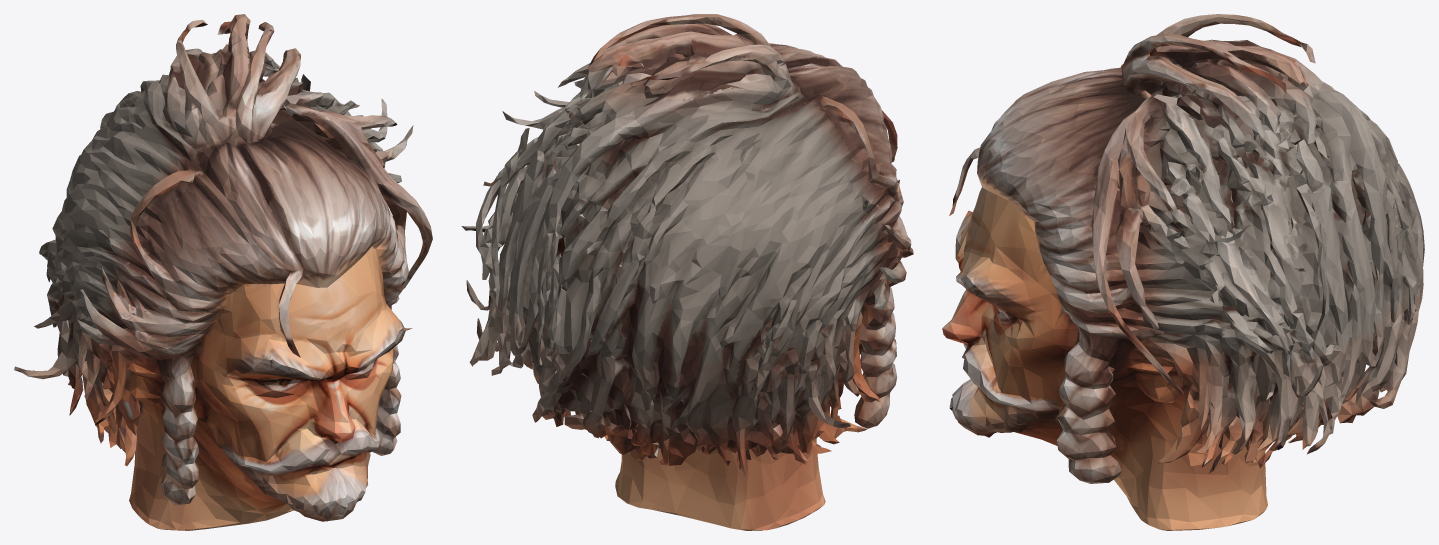
Rendered from side_tadaka_repaired_atlas.glb.
3 renders of one model, left to right at view 1: azimuth 30°, elevation 25°; view 2: azimuth 150°, elevation 25°; view 3: azimuth 270°, elevation 25°, orthographic. The views are drawn at different scales.
Parts seen in each view (by area): view 1: temp_mesh.ply; view 2: temp_mesh.ply; view 3: temp_mesh.ply.
Boxes of the visible parts, x1,y1,x2,y2 form: temp_mesh.ply: (14, 14, 432, 530); temp_mesh.ply: (461, 14, 913, 530); temp_mesh.ply: (942, 14, 1424, 530).
Bounding box in the file's own units: 1.27 × 1.43 × 1.35.
Materials: 1 (1 with a texture image).
